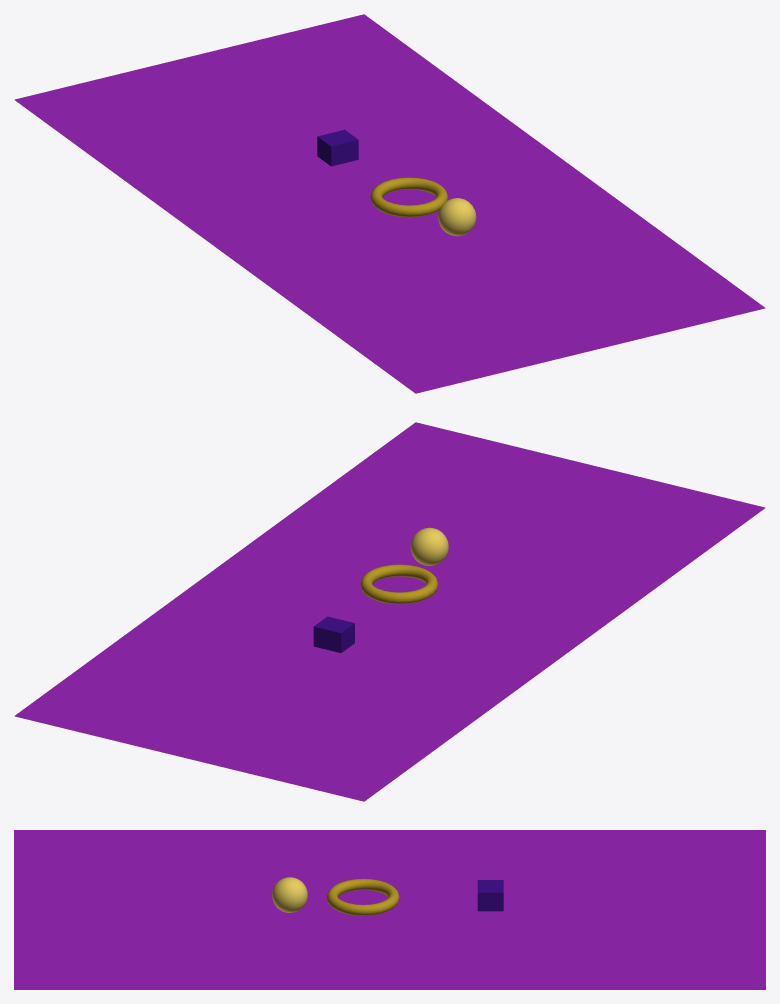
File: simple_002_Spotlight_00.dae
The picture shows the model from 3 angles, top to bottom: view 1: azimuth 30°, elevation 25°; view 2: azimuth 150°, elevation 25°; view 3: azimuth 270°, elevation 25°; orthographic projection. The views are drawn at different scales.
Parts seen in each view (by area): view 1: Plane01, Torus01, Box01, Sphere01; view 2: Plane01, Torus01, Box01, Sphere01; view 3: Plane01, Torus01, Sphere01, Box01.
Part boxes in pixels (x1,y1,x2,y2): Plane01: (14, 14, 765, 393); Torus01: (370, 177, 448, 217); Box01: (317, 129, 358, 166); Sphere01: (438, 198, 476, 236); Plane01: (14, 422, 765, 801); Torus01: (360, 564, 438, 604); Box01: (313, 616, 354, 652); Sphere01: (410, 527, 448, 565); Plane01: (14, 830, 765, 989); Torus01: (326, 878, 399, 915); Sphere01: (272, 877, 307, 912); Box01: (477, 880, 503, 911).
Bounding box in the file's own units: 4997 × 9926 × 545.
